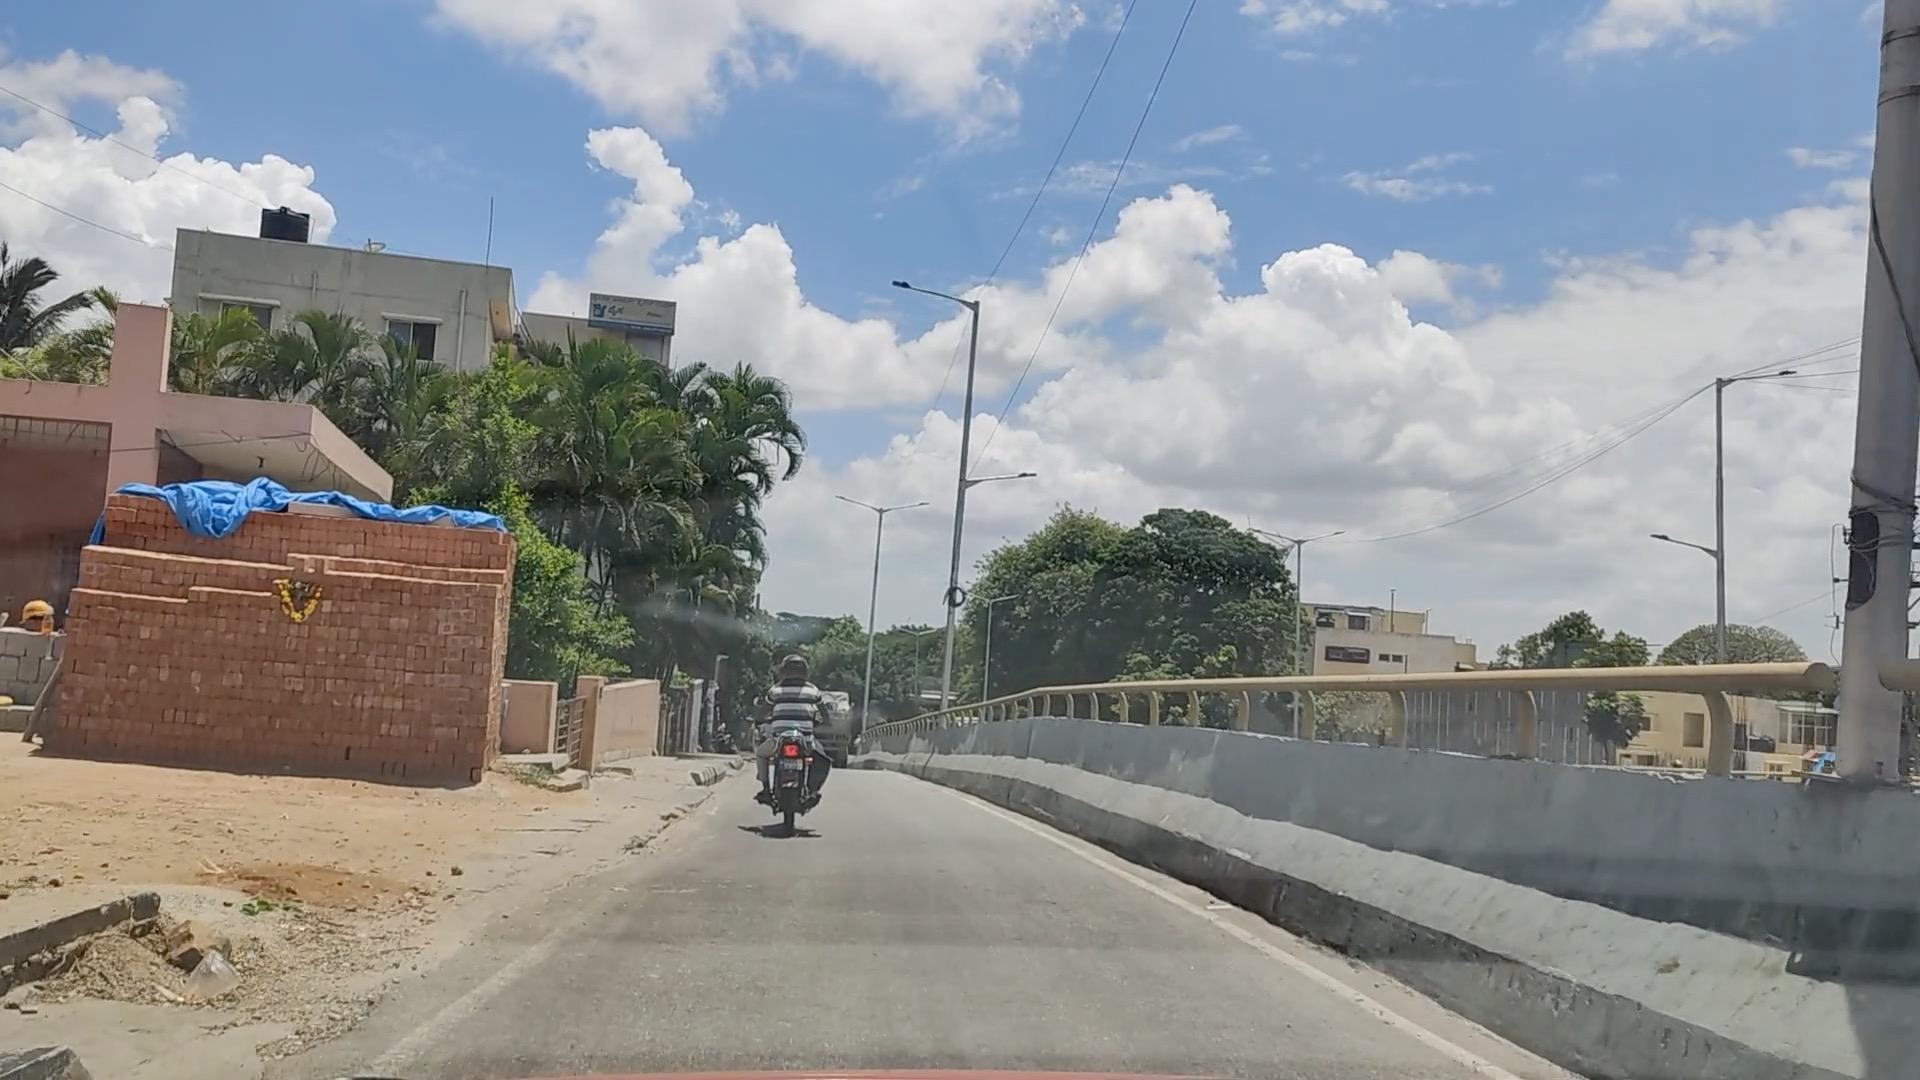LMV: (727, 643, 839, 831)
RoadDamages: (57, 887, 493, 1050)
